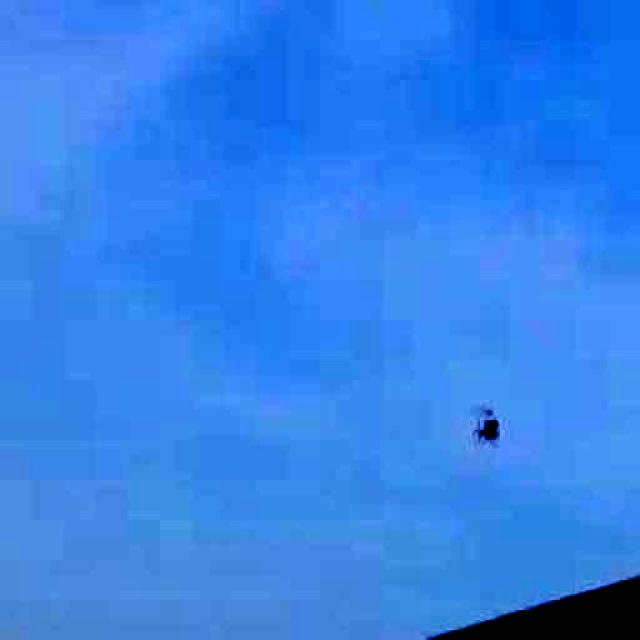drone: (460, 382, 524, 466)
